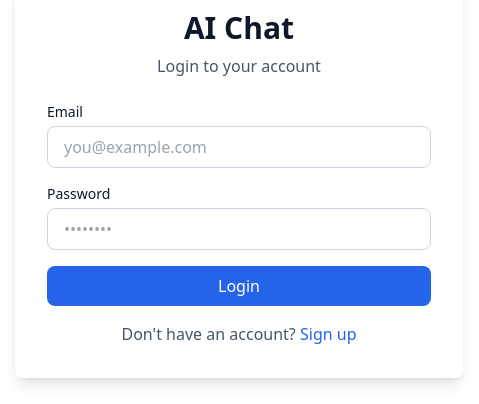
Test case: Login › disables button during loading
Type "test@example.com" into the field with placeholder "you@example.com" at {"x": 239, "y": 147}, box x1=47 y1=126 x2=431 y2=168
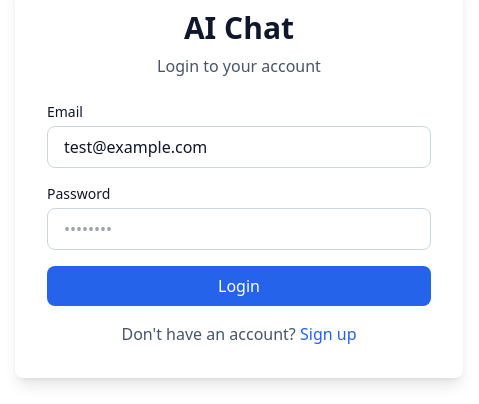
Type "password123" into the password field with placeholder "••••••••" at {"x": 239, "y": 229}, box x1=47 y1=208 x2=431 y2=250
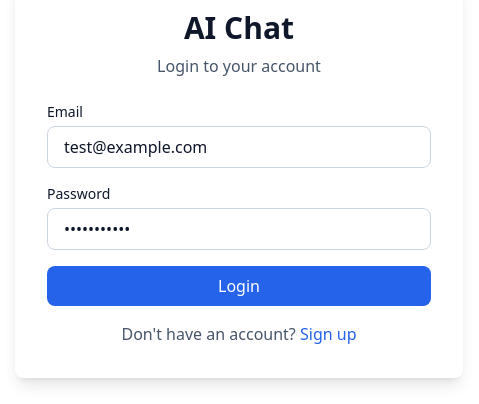
Click the button "Login" at {"x": 239, "y": 286}, box x1=47 y1=266 x2=431 y2=306
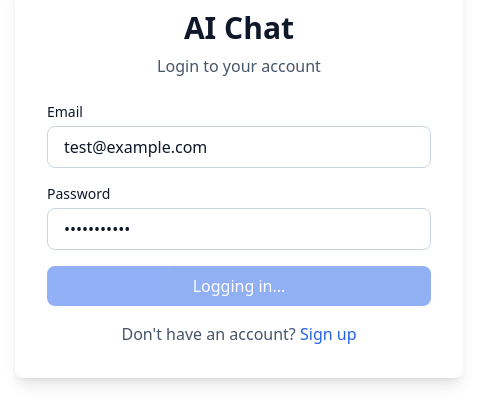
Check: the button named "Login" is disabled, box x1=47 y1=266 x2=431 y2=306
